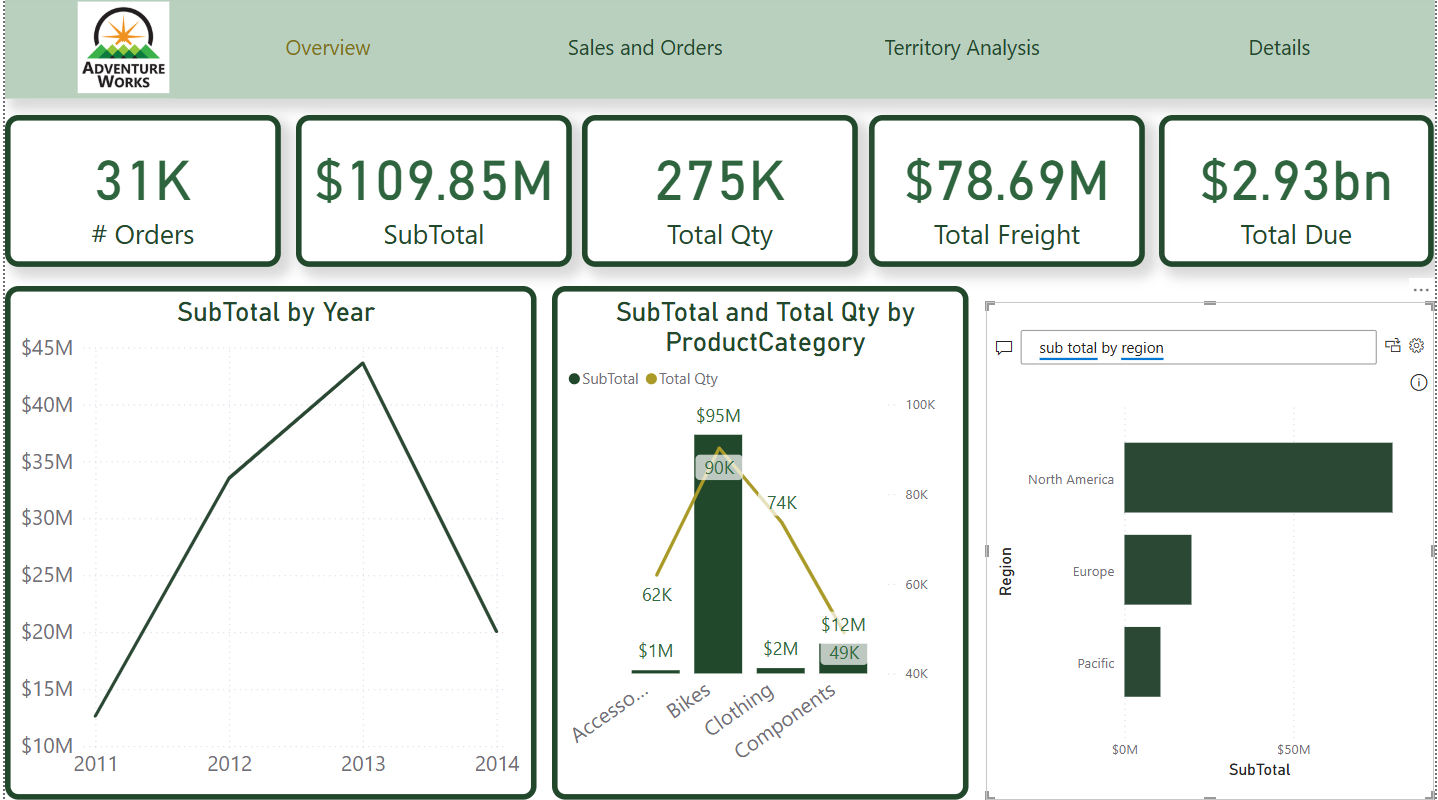

Layout of this report page (visuals, bound fields, positions):
{"tool":"powerbi","page":{"name":"Overview","canvas":[1280,720],"ordinal":0},"visuals":[{"type":"shape","box":[0,0,1280,92.3],"z":0},{"type":"card","fields":{"Values":["MeasuresTable.# Orders"]},"box":[0,106.6,247.2,136.1],"z":1000},{"type":"image","box":[33,0,146,92],"z":2000},{"type":"card","title":"Total Due","fields":{"Values":["MeasuresTable.Total Due"]},"box":[1033.4,106.6,246.3,136.1],"z":3000},{"type":"card","title":"Total Freight","fields":{"Values":["MeasuresTable.Total Freight"]},"box":[773.7,106.6,247.2,136.1],"z":4000},{"type":"card","title":"SubTotal","fields":{"Values":["MeasuresTable.SubTotal"]},"box":[260.6,106.6,247.2,136.1],"z":5000},{"type":"lineStackedColumnComboChart","fields":{"Category":["DimProducts.Product Hierarchy.ProductCategory","DimProducts.Product Hierarchy.ProductSubCategory"],"Y":["MeasuresTable.SubTotal"],"Y2":["MeasuresTable.Total Qty"]},"box":[489.9,259.7,372.5,460.3],"z":6000},{"type":"lineChart","fields":{"Category":["DimDate.Date Hierarchy.Year","DimDate.Date Hierarchy.Month Name","DimDate.Date Hierarchy.Day"],"Y":["MeasuresTable.SubTotal"]},"box":[0,259.7,475.5,460.3],"z":7000},{"type":"pageNavigator","box":[152,0,1128,92],"z":8000},{"type":"card","title":"SubTotal","fields":{"Values":["MeasuresTable.Total Qty"]},"box":[516.7,106.6,247.2,136.1],"z":9000},{"type":"qnaVisual","box":[878.5,274,401.2,446],"z":10000}]}

Visuals, with their boxes in screenshot pixels (x1, y1, x2, y2), scaled from the page's 1280x720 canvas onto the 1438x800 screenshot:
shape: box(0, 0, 1437, 103)
card - MeasuresTable.# Orders: box(0, 118, 278, 270)
image: box(37, 0, 201, 102)
"Total Due" card: box(1161, 118, 1437, 270)
"Total Freight" card: box(869, 118, 1147, 270)
"SubTotal" card: box(293, 118, 570, 270)
lineStackedColumnComboChart - DimProducts.Product Hierarchy.ProductCategory x DimProducts.Product Hierarchy.ProductSubCategory: box(550, 289, 969, 799)
lineChart - DimDate.Date Hierarchy.Year x DimDate.Date Hierarchy.Month Name: box(0, 289, 534, 799)
pageNavigator: box(171, 0, 1437, 102)
"SubTotal" card: box(580, 118, 858, 270)
qnaVisual: box(987, 304, 1437, 799)
